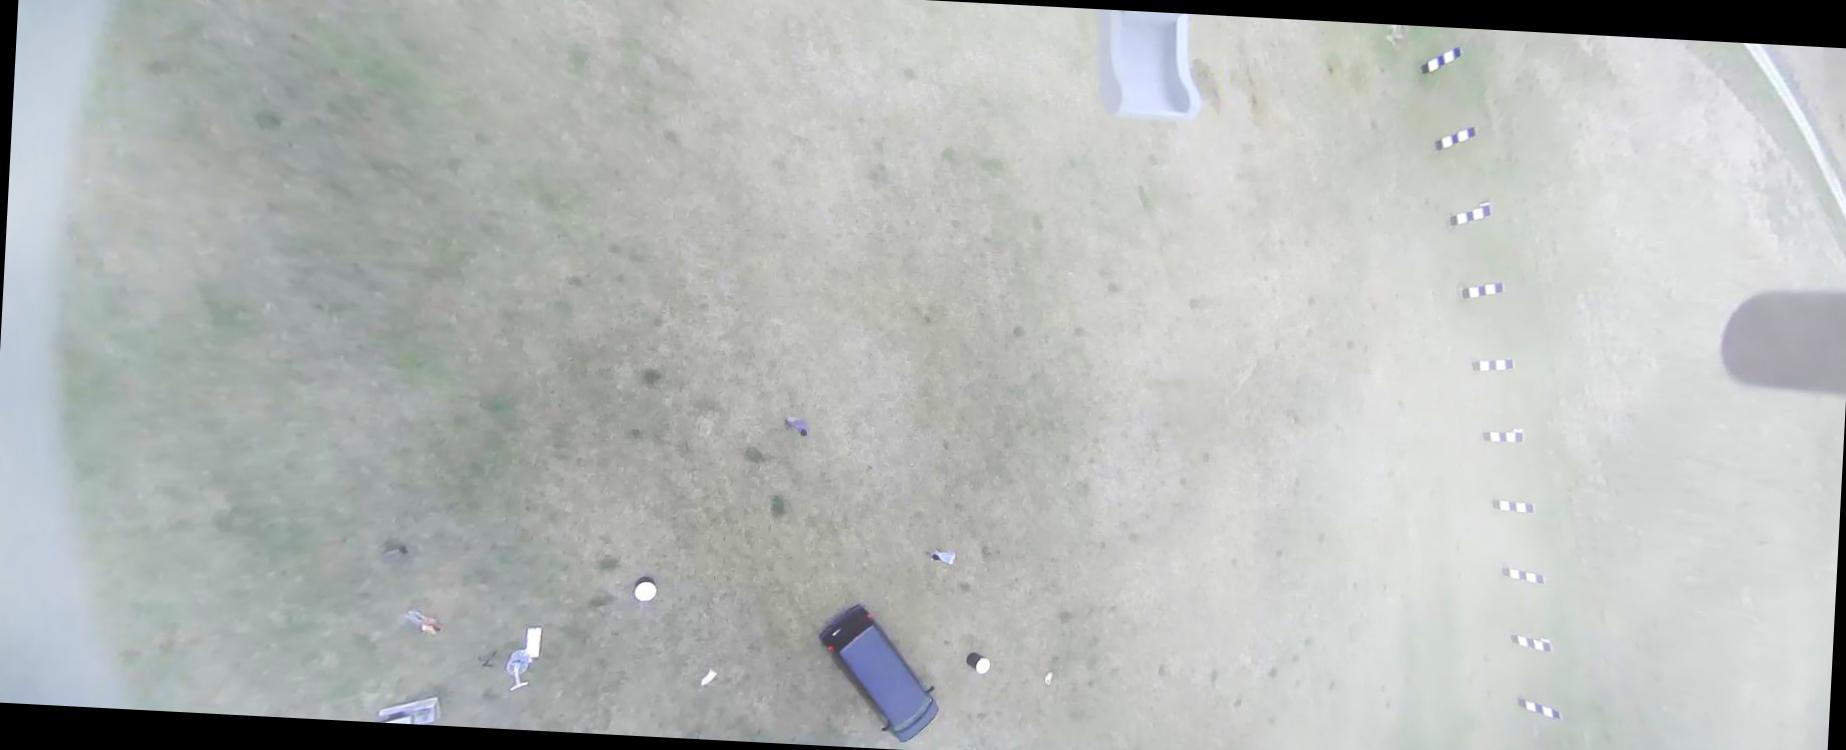vehicle: (814, 600, 944, 744)
